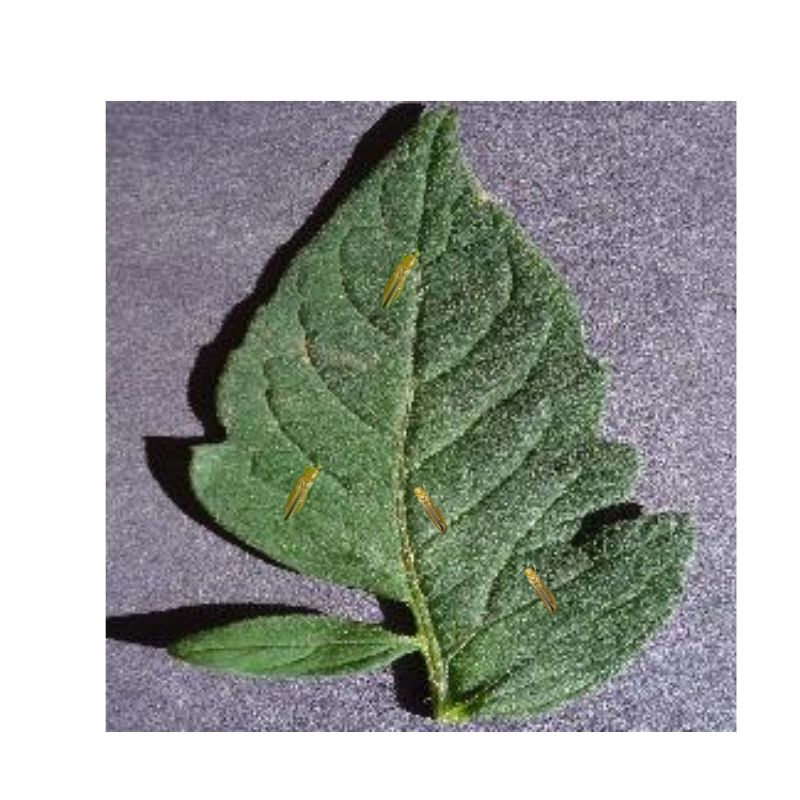thrips: (280, 459, 323, 521), (379, 248, 419, 310), (414, 482, 450, 537), (524, 563, 559, 616)
